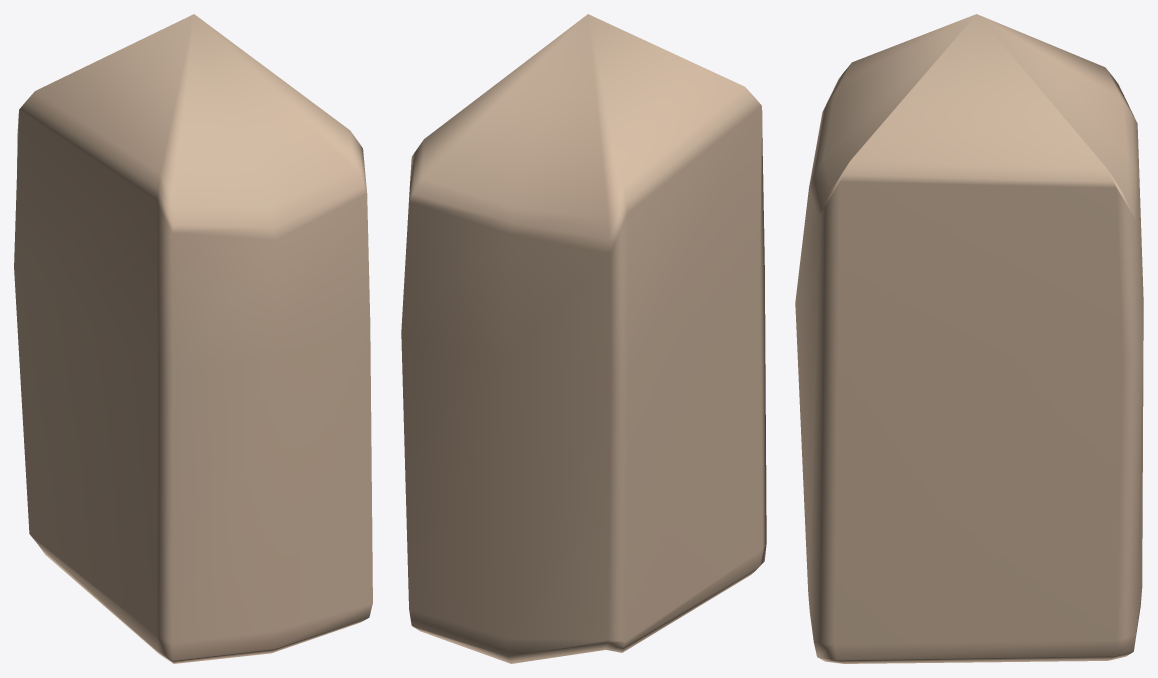
File: SM_Prop_milestone_0.glb
3 views of the same model, side by side, from view 1: azimuth 30°, elevation 25°; view 2: azimuth 150°, elevation 25°; view 3: azimuth 270°, elevation 25° (orthographic). The views are drawn at different scales.
Parts seen in each view (by area): view 1: SM_Prop_milestone_0; view 2: SM_Prop_milestone_0; view 3: SM_Prop_milestone_0.
Boxes of the visible parts, box(x1,y1,x2,y2) form: SM_Prop_milestone_0: box(14, 14, 372, 663); SM_Prop_milestone_0: box(401, 14, 766, 663); SM_Prop_milestone_0: box(795, 14, 1143, 663).
Bounding box in the file's own units: 0.3478 × 0.8817 × 0.4595.
